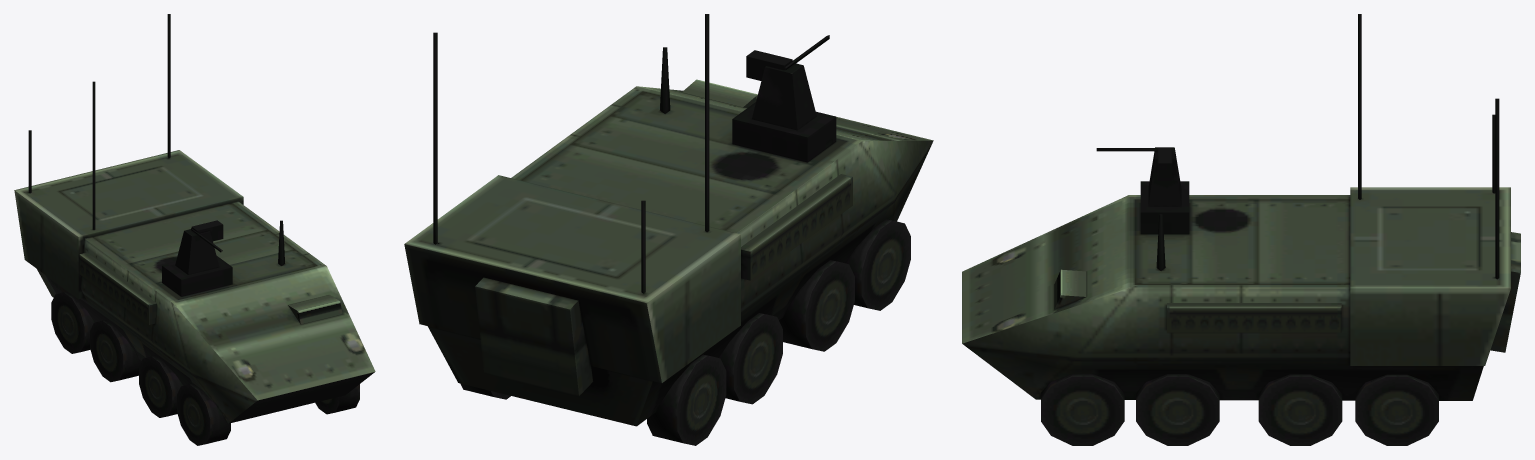
The model's file is Stryker_MTR.DAE.
3 views of the same model, side by side, from view 1: azimuth 30°, elevation 25°; view 2: azimuth 150°, elevation 25°; view 3: azimuth 270°, elevation 25° (orthographic). The views are drawn at different scales.
Parts seen in each view (by area): view 1: _1183_Stryker_MTR; view 2: _1183_Stryker_MTR; view 3: _1183_Stryker_MTR.
Part boxes in pixels (bbox=[...]): _1183_Stryker_MTR: bbox=[14, 14, 375, 445]; _1183_Stryker_MTR: bbox=[404, 14, 933, 445]; _1183_Stryker_MTR: bbox=[962, 14, 1520, 445].
Bounding box in the file's own units: 112 × 173 × 253.
1 material, 1 textured.
